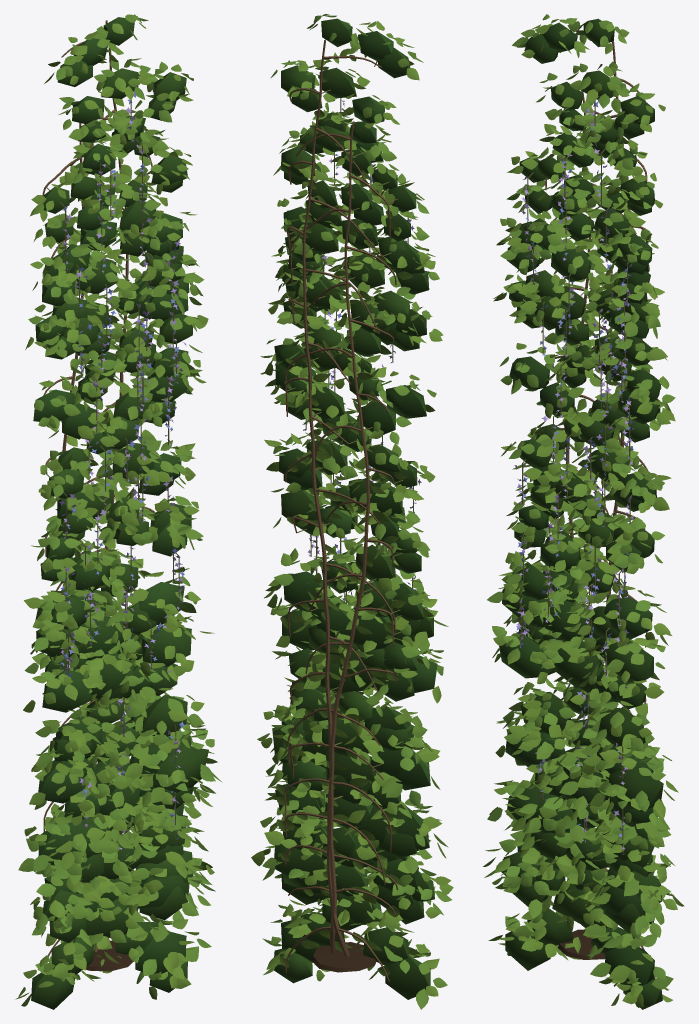
Rendered from climber_wisteria_narrow.glb.
3 renders of one model, left to right at view 1: azimuth 30°, elevation 25°; view 2: azimuth 150°, elevation 25°; view 3: azimuth 330°, elevation 25°, orthographic.
Visible parts, largest first — view 1: Sammel Pflanze, Sammel Blatt, Sammel Putz, Sammel Holz; view 2: Sammel Blatt, Sammel Pflanze, Sammel Holz, Sammel Putz; view 3: Sammel Pflanze, Sammel Blatt, Sammel Putz, Sammel Holz.
Part boxes in pixels (<box>): Sammel Pflanze: <box>15,14,222,1006</box>; Sammel Blatt: <box>31,17,208,1009</box>; Sammel Putz: <box>45,99,179,971</box>; Sammel Holz: <box>42,20,154,956</box>; Sammel Blatt: <box>272,18,437,999</box>; Sammel Pflanze: <box>251,14,453,1009</box>; Sammel Holz: <box>284,39,398,981</box>; Sammel Putz: <box>285,89,413,972</box>; Sammel Pflanze: <box>483,14,684,1007</box>; Sammel Blatt: <box>499,18,663,1009</box>; Sammel Putz: <box>520,95,647,959</box>; Sammel Holz: <box>543,22,648,949</box>.
Bounding box in the file's own units: 1.13 × 5.39 × 0.4664.
